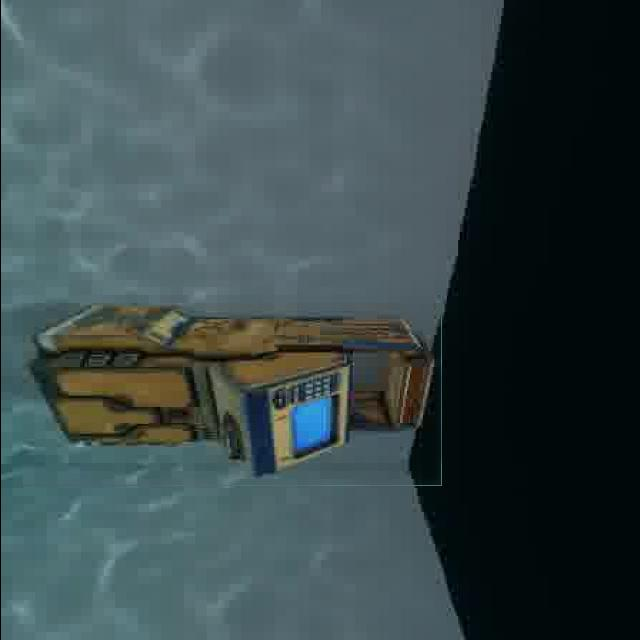Control Panel: (19, 284, 441, 486)
